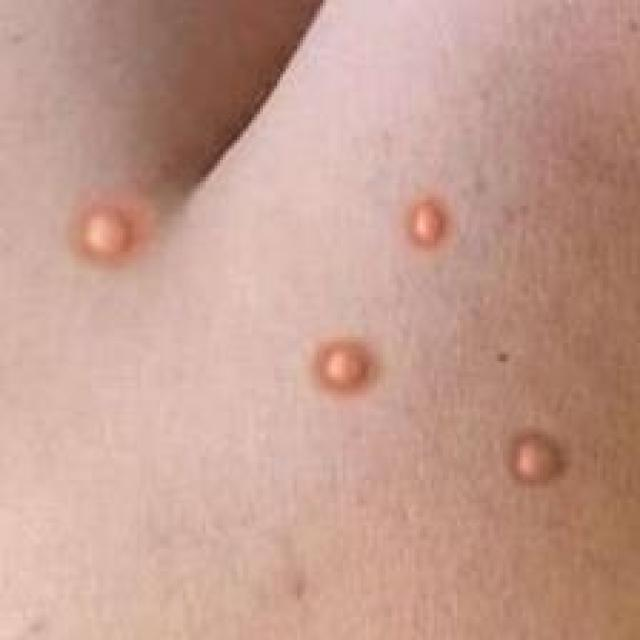monkeypox: (26, 104, 626, 619)
